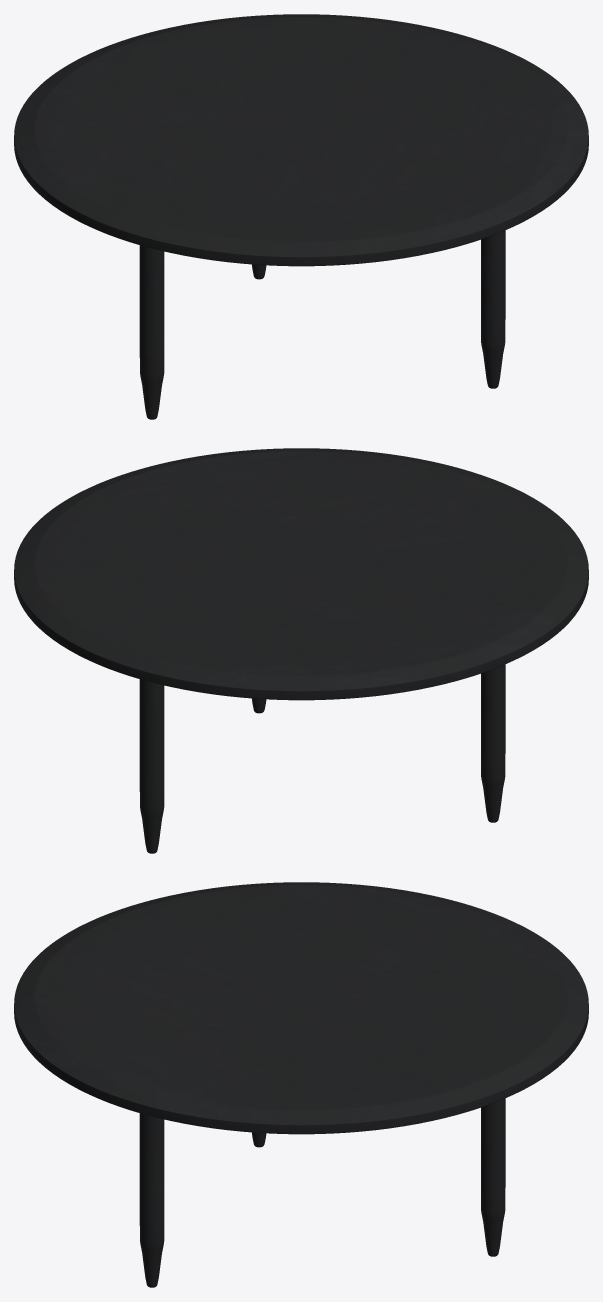
Rendered from abo_B07TPNG61L.glb.
3 renders of one model, top to bottom at view 1: azimuth 30°, elevation 25°; view 2: azimuth 150°, elevation 25°; view 3: azimuth 270°, elevation 25°, orthographic.
Parts seen in each view (by area): view 1: B07TPNG61L; view 2: B07TPNG61L; view 3: B07TPNG61L.
Boxes of the visible parts, bbox=[...] form: B07TPNG61L: bbox=[14, 14, 588, 419]; B07TPNG61L: bbox=[14, 448, 588, 853]; B07TPNG61L: bbox=[14, 882, 588, 1287].
Size of the model in its own units: 0.9 by 0.4 by 0.9.
1 material, 1 textured.
